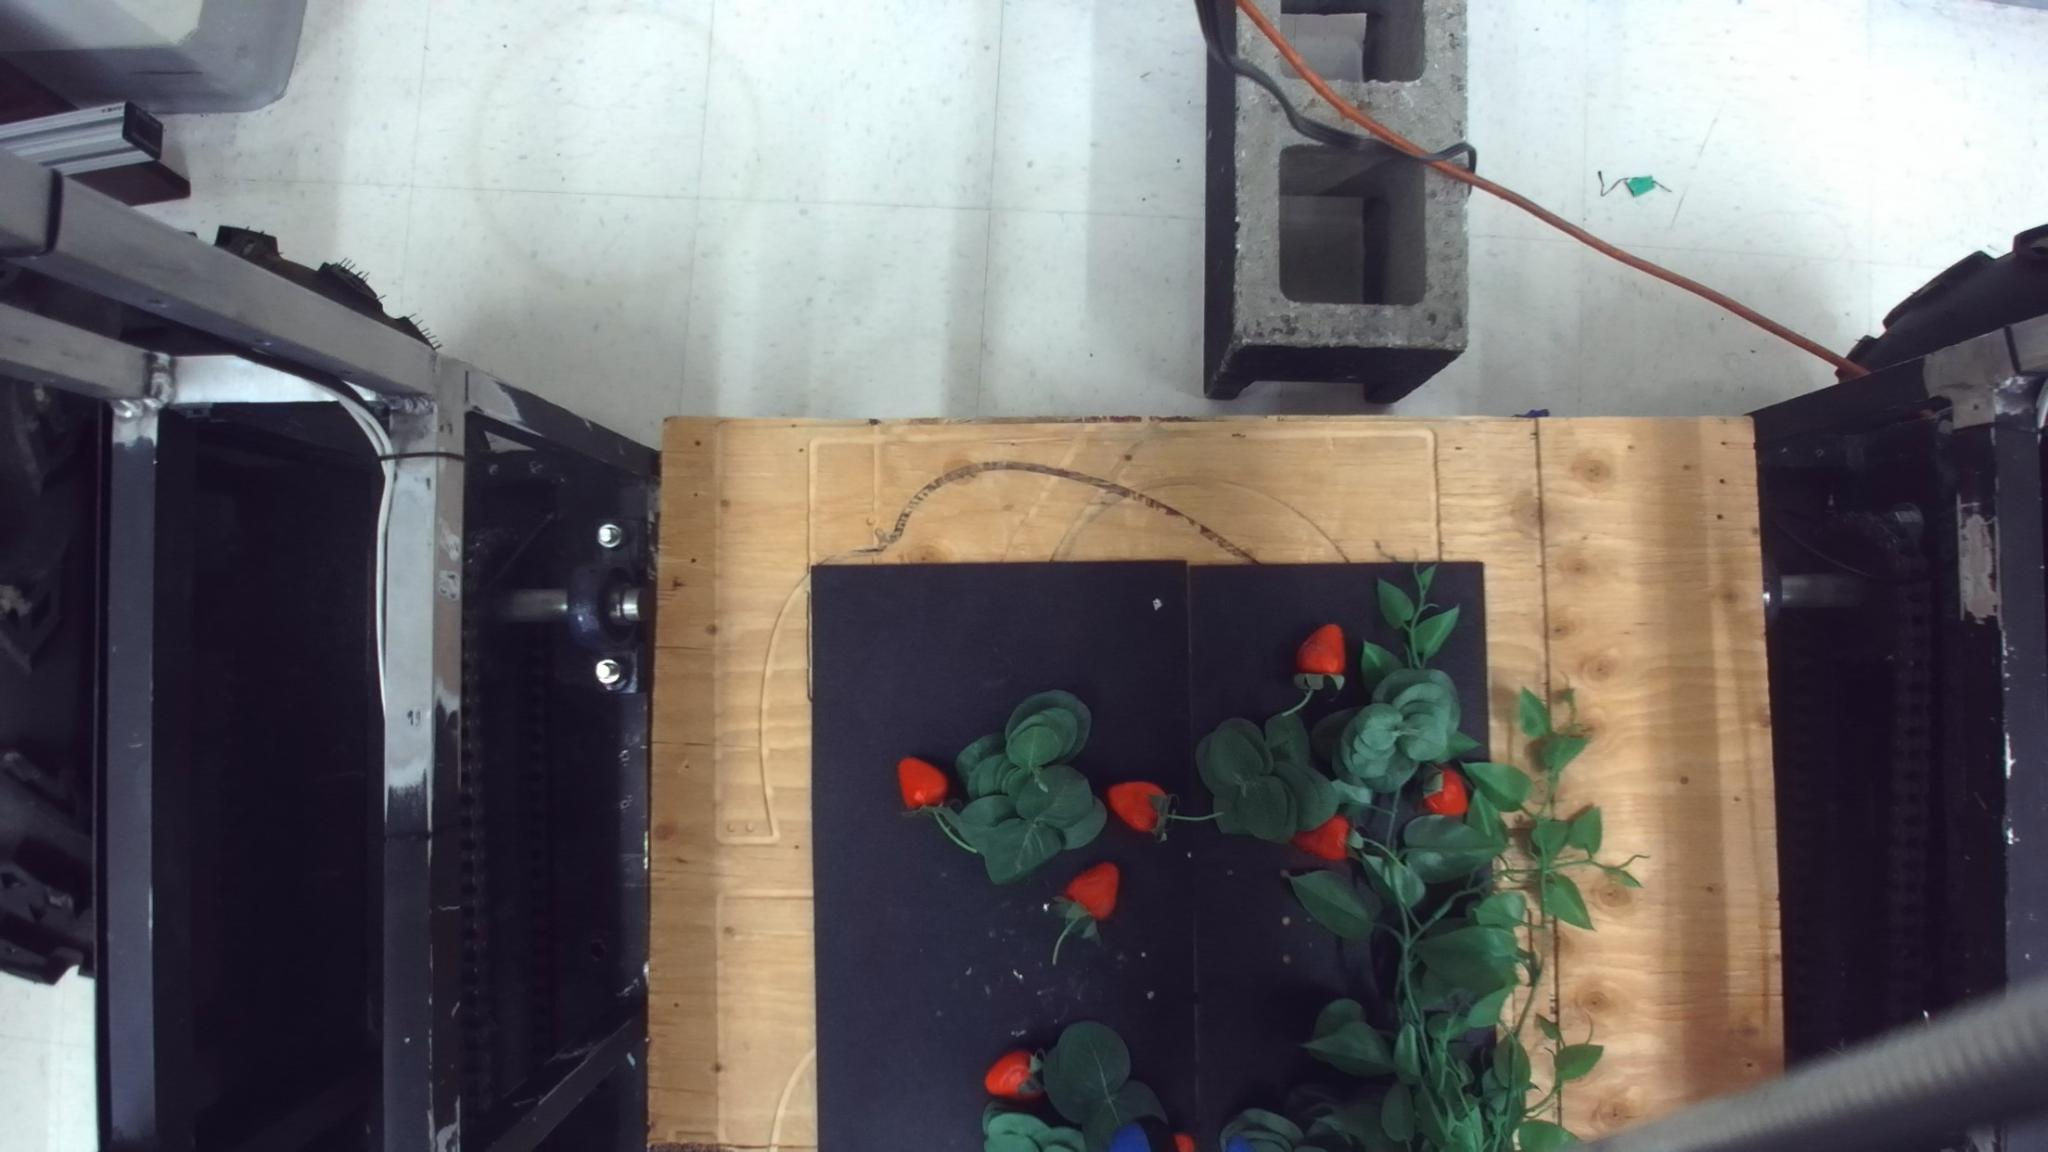strawberry: (1293, 622, 1348, 692), (1107, 779, 1172, 838), (1063, 859, 1120, 920), (982, 1048, 1045, 1101), (1291, 813, 1353, 861), (896, 755, 948, 812), (1421, 765, 1470, 819)
